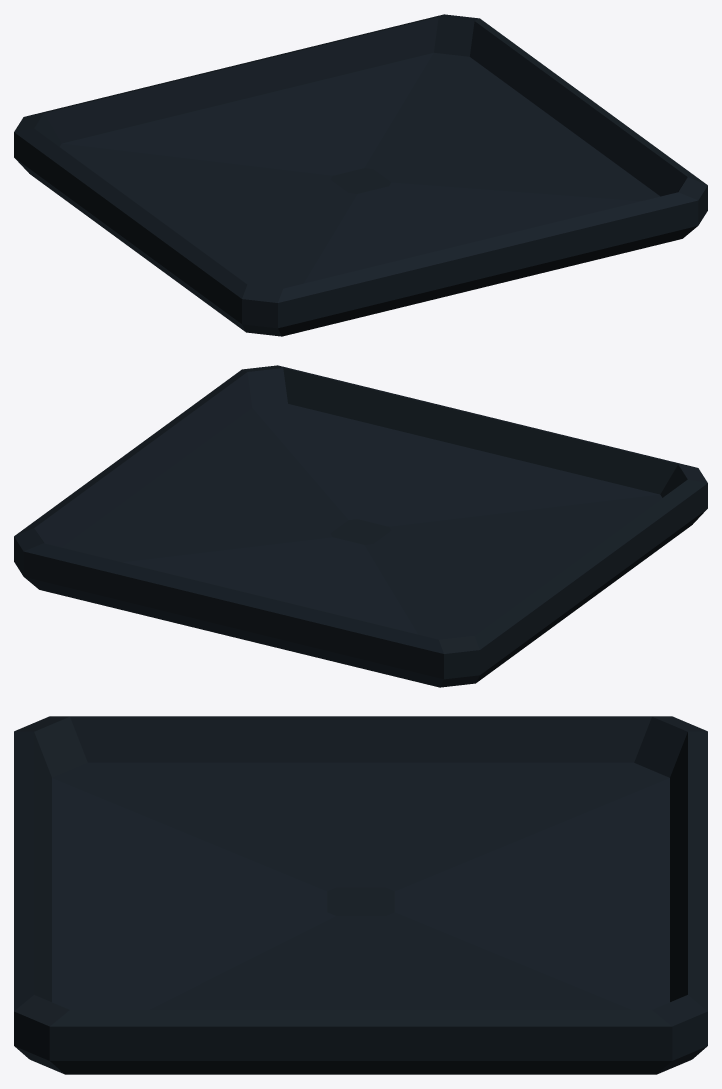
Rendered from ES_14_Raised_Rim_Entry_Tray.fbx.
3 renders of one model, top to bottom at view 1: azimuth 30°, elevation 25°; view 2: azimuth 150°, elevation 25°; view 3: azimuth 270°, elevation 25°, orthographic. The views are drawn at different scales.
Parts seen in each view (by area): view 1: ES_14_Raised_Rim_Entry_Tray; view 2: ES_14_Raised_Rim_Entry_Tray; view 3: ES_14_Raised_Rim_Entry_Tray.
Boxes of the visible parts, box(x1,y1,x2,y2) form: ES_14_Raised_Rim_Entry_Tray: box(14, 14, 707, 336); ES_14_Raised_Rim_Entry_Tray: box(14, 365, 707, 687); ES_14_Raised_Rim_Entry_Tray: box(14, 716, 707, 1074).
Bounding box in the file's own units: 3.28 × 0.31 × 3.1.
Materials: 1 (1 with a texture image).
